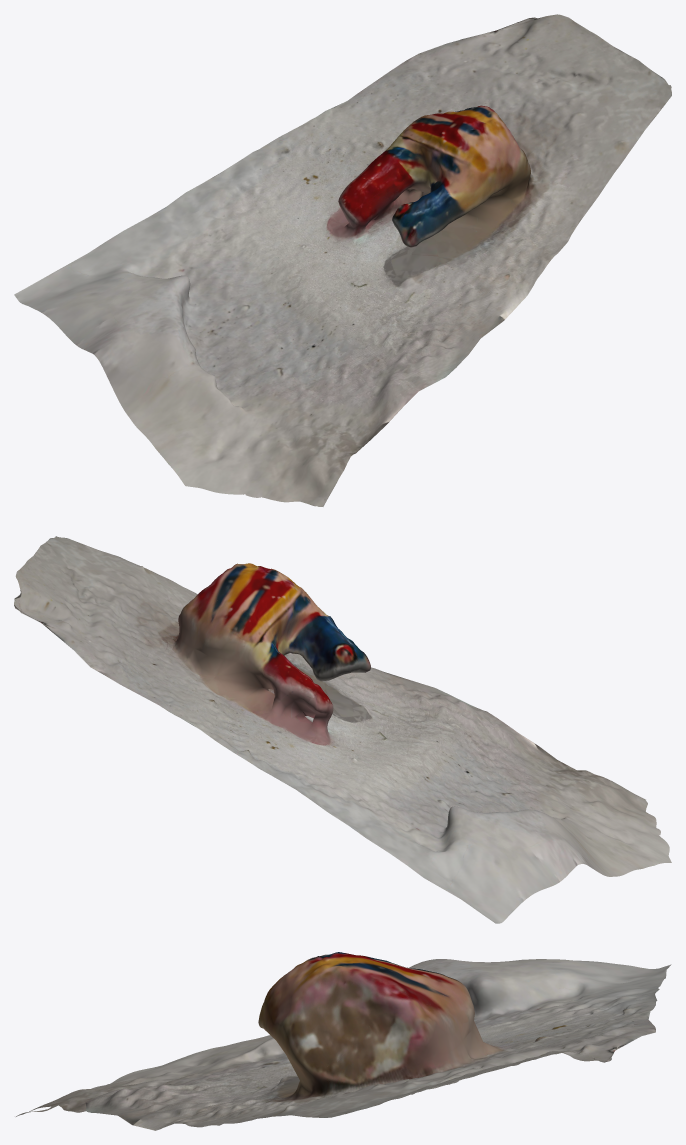
The picture shows the model from 3 angles, top to bottom: view 1: azimuth 30°, elevation 25°; view 2: azimuth 150°, elevation 25°; view 3: azimuth 270°, elevation 25°; orthographic projection. The views are drawn at different scales.
Bounding box in the file's own units: 2.11 × 0.9362 × 1.54.
1 material, 1 textured.
